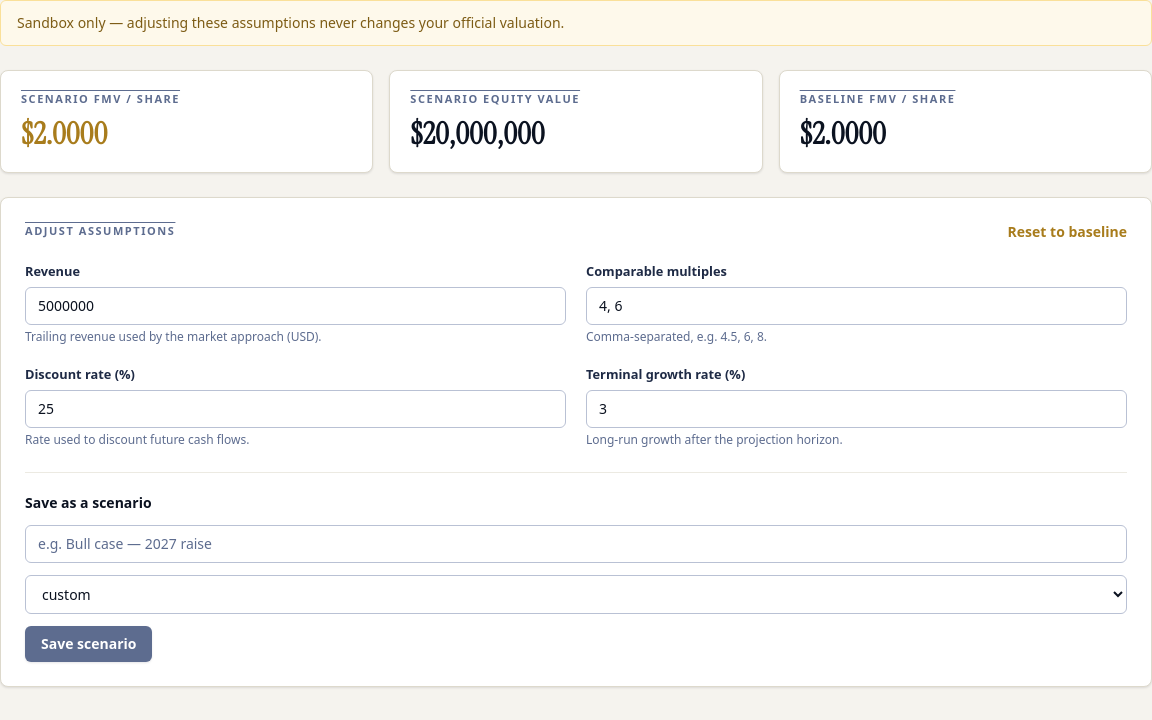
Test case: ScenariosTab — the other knobs › withholds the preview while an assumption is unusable, and says so on save
Type "-5" into the field labelled "Discount rate (%) Rate used to discount future cash flows." at (296, 409), box 25,390 -> 566,428
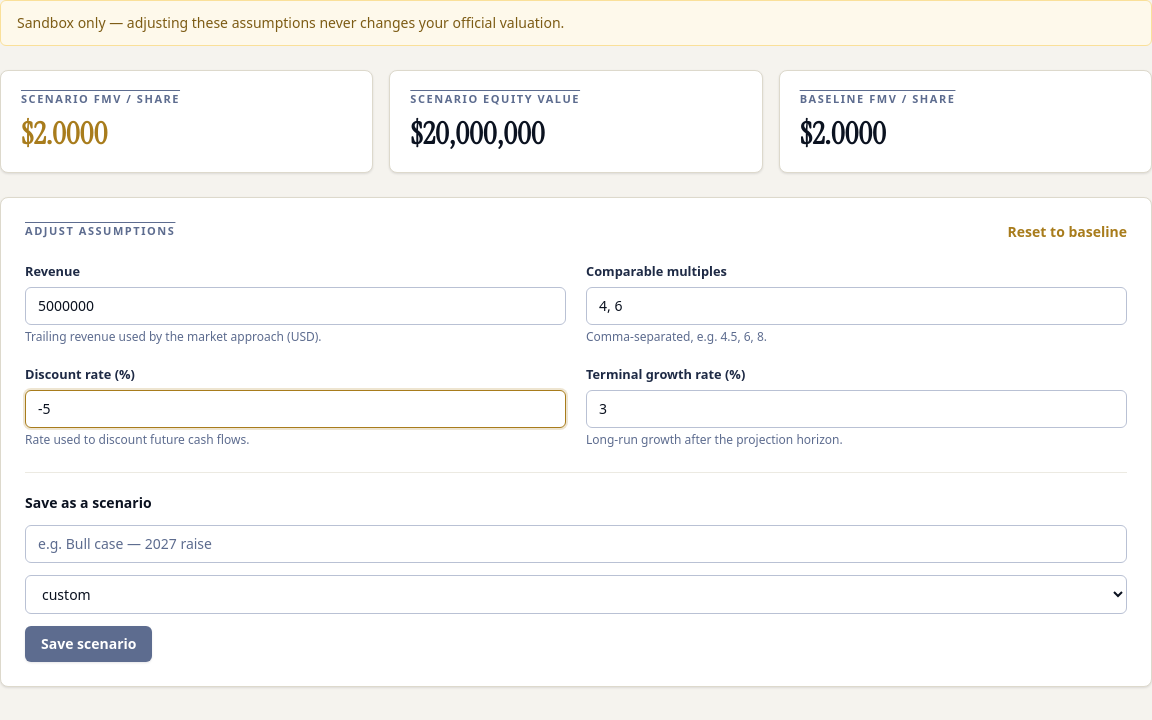
Type "Impossible" into the field named "Scenario name" at (576, 544), box 25,525 -> 1127,563
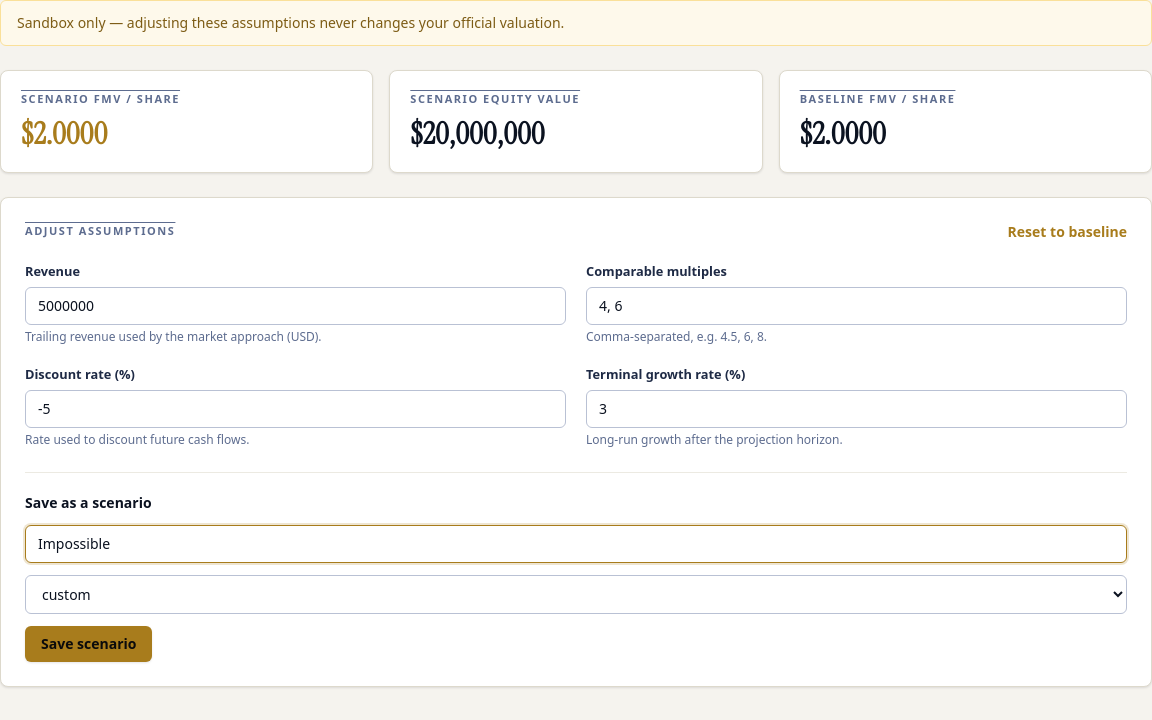
Click the button "Save scenario" at (89, 644), box 25,626 -> 152,662
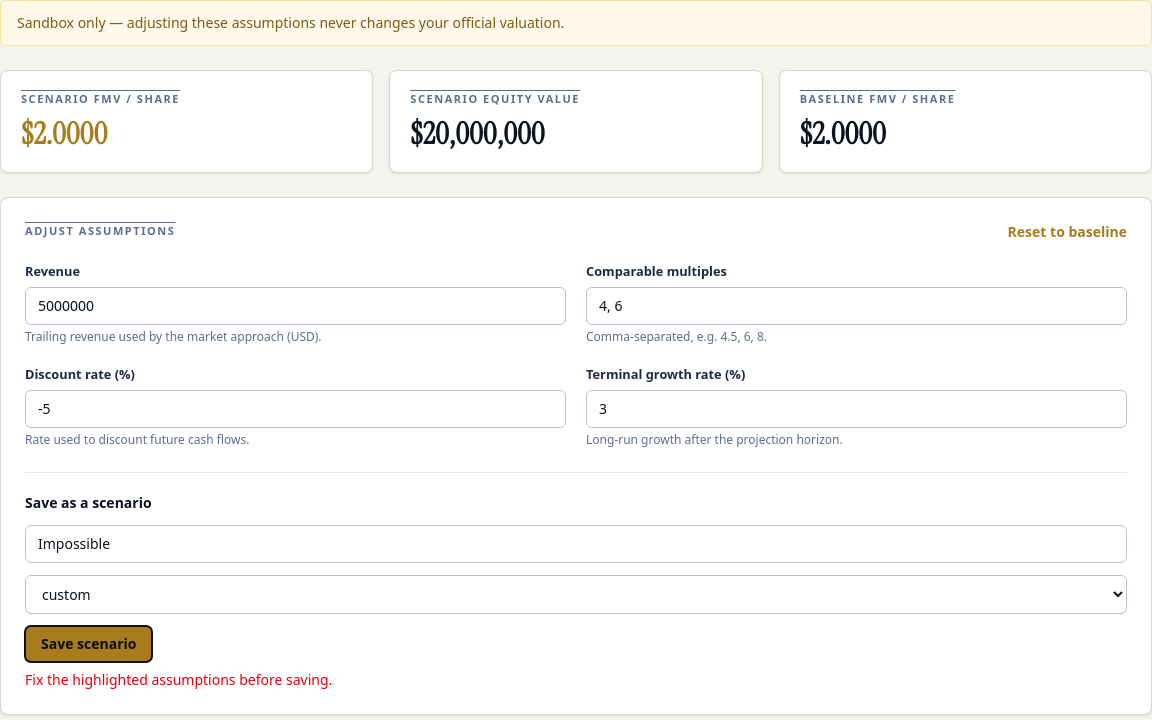
Expected: the message reads "Fix the highlighted assumptions before saving.", 25,670 -> 332,689
